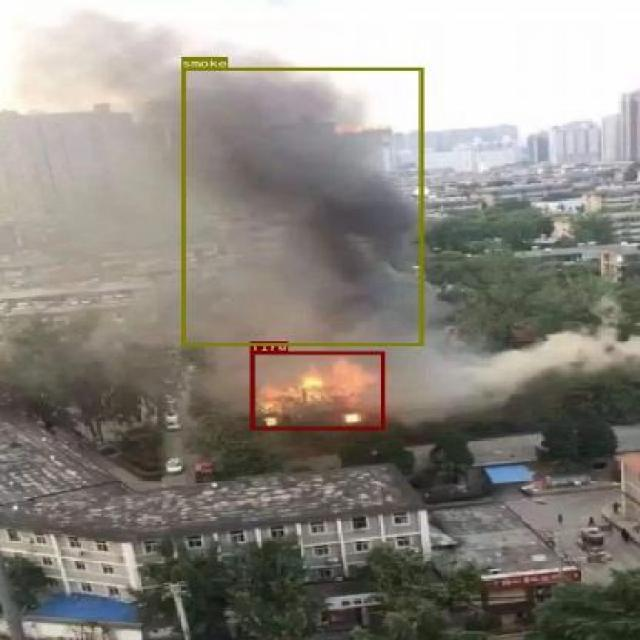Fire: (249, 350, 383, 430)
Smoke: (180, 67, 422, 346)
